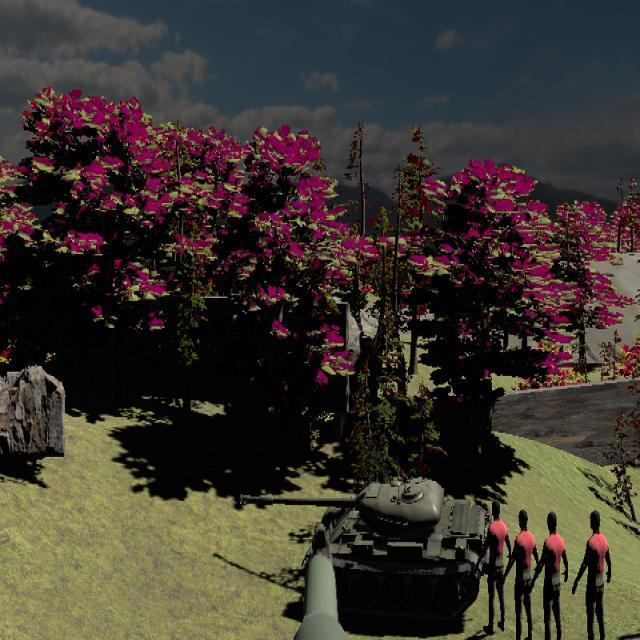Human: (571, 510, 612, 640), (502, 508, 542, 640), (531, 511, 570, 640), (479, 499, 514, 632)
Tank: (239, 471, 487, 621)
